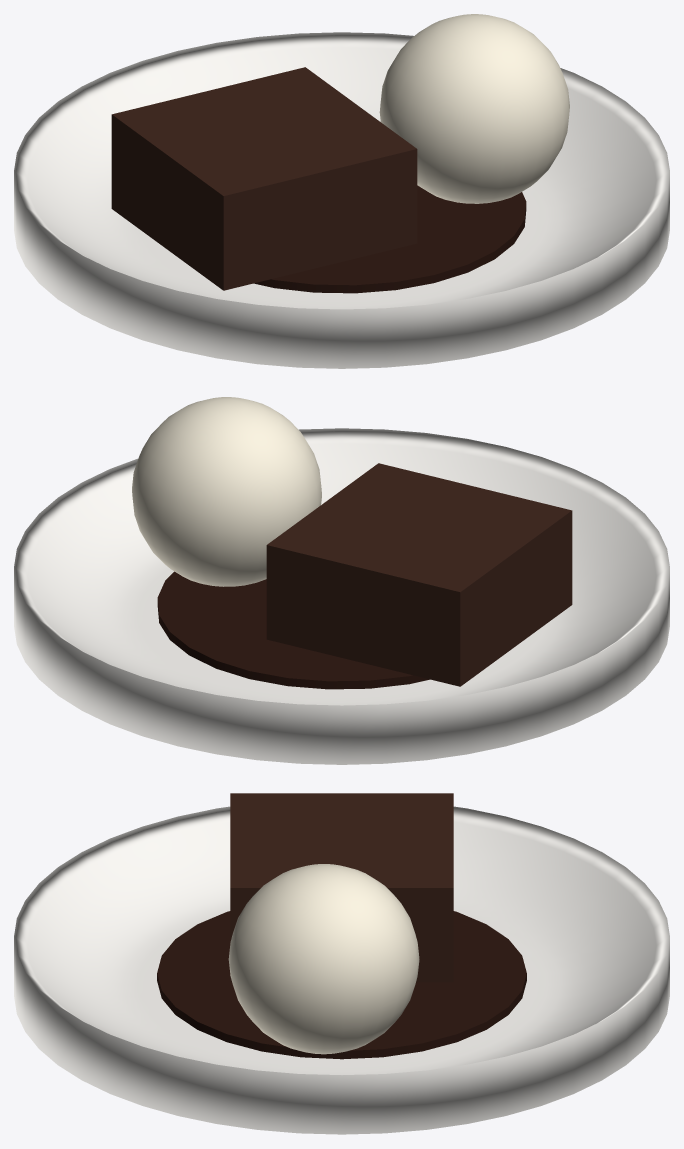
The model's file is sobremesa-2-card.glb.
3 views of the same model, one above another, from view 1: azimuth 30°, elevation 25°; view 2: azimuth 150°, elevation 25°; view 3: azimuth 270°, elevation 25° (orthographic).
Size of the model in its own units: 0.22 by 0.068 by 0.22.
